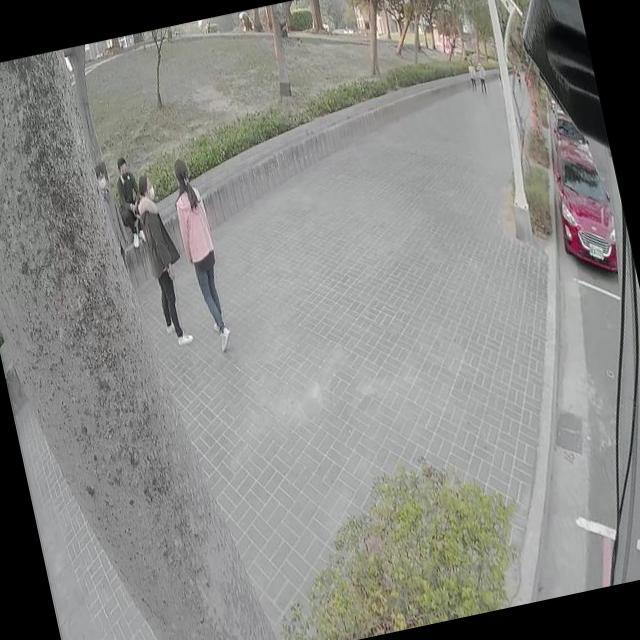person: (166, 156, 236, 354), (128, 170, 194, 348), (92, 164, 133, 280), (109, 156, 147, 248), (472, 56, 487, 93), (464, 56, 478, 92)
